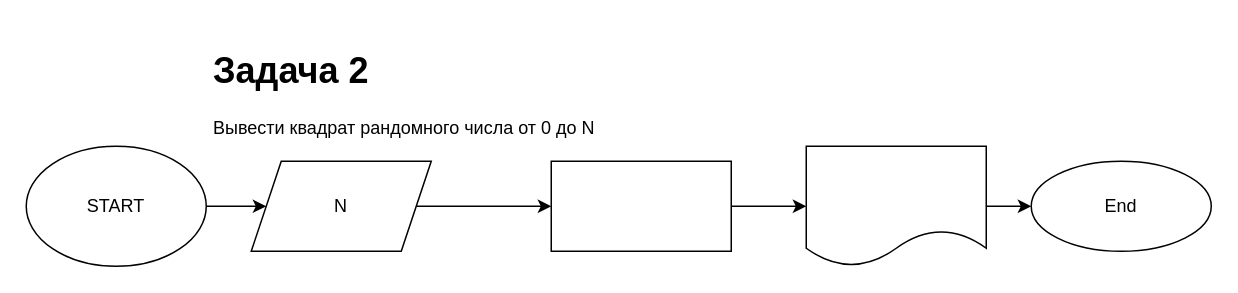
This 1238x293 diagram has some shape labels left out. The shapes that lost their labels are listed below. From the top down, each one's box as (x1, y1, x2, y2) in pixels, then its label:
(550, 160, 731, 251): res = sqr (random (N-1)+1)
(805, 145, 986, 266): res
